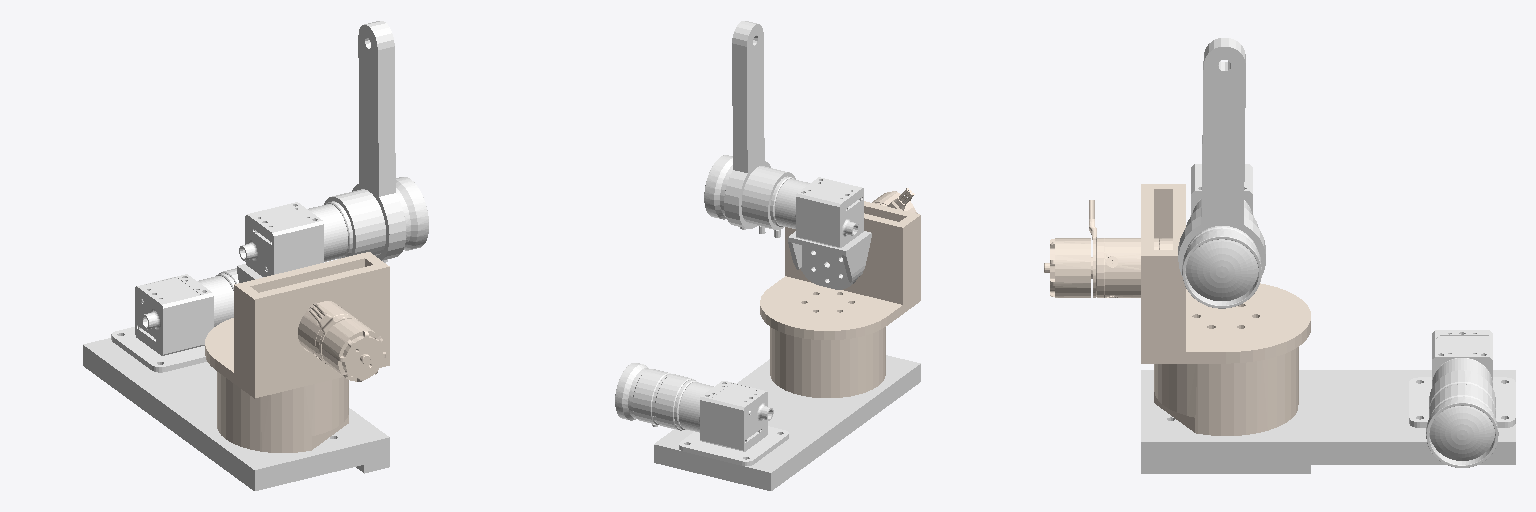
The robot description file, URDF, robot "radar_solidworks_export":
<?xml version="1.0" encoding="utf-8"?>
<!--
  SolidWorks 导出原始几何参考。网格使用相对路径 ../meshes/（与本文件同级的 meshes 目录）。
  Gazebo / ROS2 仿真请使用 radar_gimbal_gazebo 包内 urdf/radar_gimbal.urdf.xacro（launch 会将 mesh 转为 file://）。
-->
<!-- This URDF was automatically created by SolidWorks to URDF Exporter! Originally created by Stephen Brawner (brawner@gmail.com) 
     Commit Version: 1.6.0-4-g7f85cfe  Build Version: 1.6.7995.38578
     For more information, please see http://wiki.ros.org/sw_urdf_exporter -->
<robot
  name="radar_solidworks_export">
  <link
    name="base_link">
    <inertial>
      <origin
        xyz="0.00106427671530626 -0.00322922392982693 -0.00671468562919772"
        rpy="0 0 0" />
      <mass
        value="0.229931745877165" />
      <inertia
        ixx="0.000590270936390006"
        ixy="1.07371769131118E-05"
        ixz="1.88719478321106E-06"
        iyy="0.000126898863823102"
        iyz="-6.79511189117362E-06"
        izz="0.000709505066157741" />
    </inertial>
    <visual>
      <origin
        xyz="0 0 0"
        rpy="0 0 0" />
      <geometry>
        <mesh
          filename="../meshes/base_link.STL" />
      </geometry>
      <material
        name="">
        <color
          rgba="0.968627450980392 0.968627450980392 0.968627450980392 1" />
      </material>
    </visual>
    <collision>
      <origin
        xyz="0 0 0"
        rpy="0 0 0" />
      <geometry>
        <mesh
          filename="../meshes/base_link.STL" />
      </geometry>
    </collision>
  </link>
  <link
    name="fix_camera_one_Link">
    <inertial>
      <origin
        xyz="-0.0292931154612421 -2.92415076856394E-05 -0.00534378407408276"
        rpy="0 0 0" />
      <mass
        value="0.0432395885563312" />
      <inertia
        ixx="6.84812974536652E-06"
        ixy="-2.42904999940939E-08"
        ixz="1.92184336275892E-08"
        iyy="8.06433263966491E-06"
        iyz="1.10833354996719E-09"
        izz="1.1016716291214E-05" />
    </inertial>
    <visual>
      <origin
        xyz="0 0 0"
        rpy="0 0 0" />
      <geometry>
        <mesh
          filename="../meshes/fix_camera_one_Link.STL" />
      </geometry>
      <material
        name="">
        <color
          rgba="1 1 1 1" />
      </material>
    </visual>
    <collision>
      <origin
        xyz="0 0 0"
        rpy="0 0 0" />
      <geometry>
        <mesh
          filename="../meshes/fix_camera_one_Link.STL" />
      </geometry>
    </collision>
  </link>
  <joint
    name="fix_camera_one"
    type="fixed">
    <origin
      xyz="0.030847222837753 0.0638829730233286 0.0175"
      rpy="0 0 0" />
    <parent
      link="base_link" />
    <child
      link="fix_camera_one_Link" />
    <axis
      xyz="0 0 0" />
  </joint>
  <link
    name="camera_one_optical_Link">
    <inertial>
      <origin
        xyz="-4.92273352582437E-06 2.90905862816056E-05 0.0167250240812808"
        rpy="0 0 0" />
      <mass
        value="0.0332391621102825" />
      <inertia
        ixx="7.23769741063542E-06"
        ixy="3.06745951726435E-09"
        ixz="1.31194570343541E-10"
        iyy="7.22008946786781E-06"
        iyz="-7.75285076070035E-10"
        izz="4.04870875276839E-06" />
    </inertial>
    <visual>
      <origin
        xyz="0 0 0"
        rpy="0 0 0" />
      <geometry>
        <mesh
          filename="../meshes/camera_one_optical_Link.STL" />
      </geometry>
      <material
        name="">
        <color
          rgba="1 1 1 1" />
      </material>
    </visual>
    <collision>
      <origin
        xyz="0 0 0"
        rpy="0 0 0" />
      <geometry>
        <mesh
          filename="../meshes/camera_one_optical_Link.STL" />
      </geometry>
    </collision>
  </link>
  <joint
    name="camera_one_optical"
    type="continuous">
    <origin
      xyz="0.0335268385635114 0 0"
      rpy="-1.5707963267949 0 1.5707963267949" />
    <parent
      link="fix_camera_one_Link" />
    <child
      link="camera_one_optical_Link" />
    <axis
      xyz="0 0 1" />
  </joint>
  <link
    name="yaw_joint_Link">
    <inertial>
      <origin
        xyz="-0.000116508010712883 -0.00539983150200984 -0.0113972516576247"
        rpy="0 0 0" />
      <mass
        value="0.683416690081258" />
      <inertia
        ixx="0.000322059590126863"
        ixy="-1.77290607885917E-06"
        ixz="-1.18416365927975E-06"
        iyy="0.000338934850311297"
        iyz="1.9429950603338E-05"
        izz="0.000442690001311827" />
    </inertial>
    <visual>
      <origin
        xyz="0 0 0"
        rpy="0 0 0" />
      <geometry>
        <mesh
          filename="../meshes/yaw_joint_Link.STL" />
      </geometry>
      <material
        name="">
        <color
          rgba="1 0.949019607843137 0.898039215686275 1" />
      </material>
    </visual>
    <collision>
      <origin
        xyz="0 0 0"
        rpy="0 0 0" />
      <geometry>
        <mesh
          filename="../meshes/yaw_joint_Link.STL" />
      </geometry>
    </collision>
  </link>
  <joint
    name="yaw_joint"
    type="revolute">
    <origin
      xyz="0 -0.047117 0.0405"
      rpy="0 0 0" />
    <parent
      link="base_link" />
    <child
      link="yaw_joint_Link" />
    <axis
      xyz="0 0 1" />
    <limit
      lower="0"
      upper="0"
      effort="0"
      velocity="0" />
  </joint>
  <link
    name="pich_joint_Link">
    <inertial>
      <origin
        xyz="0.000138467596281736 0.00144707841660707 0.00776665263018918"
        rpy="0 0 0" />
      <mass
        value="0.0121756572772907" />
      <inertia
        ixx="1.50898942787321E-06"
        ixy="-9.08706173162835E-10"
        ixz="-5.55374973288002E-09"
        iyy="3.11525960305741E-06"
        iyz="3.88141718579356E-08"
        izz="2.57913481745752E-06" />
    </inertial>
    <visual>
      <origin
        xyz="0 0 0"
        rpy="0 0 0" />
      <geometry>
        <mesh
          filename="../meshes/pich_joint_Link.STL" />
      </geometry>
      <material
        name="">
        <color
          rgba="0.968627450980392 0.968627450980392 0.968627450980392 1" />
      </material>
    </visual>
    <collision>
      <origin
        xyz="0 0 0"
        rpy="0 0 0" />
      <geometry>
        <mesh
          filename="../meshes/pich_joint_Link.STL" />
      </geometry>
    </collision>
  </link>
  <joint
    name="pich_joint"
    type="revolute">
    <origin
      xyz="0 -0.003 0.031"
      rpy="0 0 0" />
    <parent
      link="yaw_joint_Link" />
    <child
      link="pich_joint_Link" />
    <axis
      xyz="0 -1 0" />
    <limit
      lower="0"
      upper="0"
      effort="0"
      velocity="0" />
  </joint>
  <link
    name="movable_camera_tow_Link">
    <inertial>
      <origin
        xyz="-0.0284189606680574 4.39067606750332E-05 -5.40306986665517E-07"
        rpy="0 0 0" />
      <mass
        value="0.0287971770555077" />
      <inertia
        ixx="3.91534975477771E-06"
        ixy="2.42904999940923E-08"
        ixz="-1.92184336275884E-08"
        iyy="5.14110941396445E-06"
        iyz="1.10833354996656E-09"
        izz="5.18237669217594E-06" />
    </inertial>
    <visual>
      <origin
        xyz="0 0 0"
        rpy="0 0 0" />
      <geometry>
        <mesh
          filename="../meshes/movable_camera_tow_Link.STL" />
      </geometry>
      <material
        name="">
        <color
          rgba="1 1 1 1" />
      </material>
    </visual>
    <collision>
      <origin
        xyz="0 0 0"
        rpy="0 0 0" />
      <geometry>
        <mesh
          filename="../meshes/movable_camera_tow_Link.STL" />
      </geometry>
    </collision>
  </link>
  <joint
    name="movable_camera_tow"
    type="fixed">
    <origin
      xyz="0.03085 0.001 0.0323"
      rpy="0 0 0" />
    <parent
      link="pich_joint_Link" />
    <child
      link="movable_camera_tow_Link" />
    <axis
      xyz="0 0 0" />
  </joint>
  <link
    name="camera_tow_optical_Link">
    <inertial>
      <origin
        xyz="0.000202809333383402 -0.016436035218942 0.0145886833049471"
        rpy="0 0 0" />
      <mass
        value="0.0672005971243301" />
      <inertia
        ixx="4.10510128858893E-05"
        ixy="3.4727960827953E-07"
        ixz="1.08829131787497E-10"
        iyy="1.28432056341037E-05"
        iyz="-1.3644917937298E-08"
        izz="3.78896902119391E-05" />
    </inertial>
    <visual>
      <origin
        xyz="0 0 0"
        rpy="0 0 0" />
      <geometry>
        <mesh
          filename="../meshes/camera_tow_optical_Link.STL" />
      </geometry>
      <material
        name="">
        <color
          rgba="1 1 1 1" />
      </material>
    </visual>
    <collision>
      <origin
        xyz="0 0 0"
        rpy="0 0 0" />
      <geometry>
        <mesh
          filename="../meshes/camera_tow_optical_Link.STL" />
      </geometry>
    </collision>
  </link>
  <joint
    name="camera_tow_optical"
    type="continuous">
    <origin
      xyz="0.0354242123304058 0 0"
      rpy="-1.5707963267949 0 1.5707963267949" />
    <parent
      link="movable_camera_tow_Link" />
    <child
      link="camera_tow_optical_Link" />
    <axis
      xyz="0 0 1" />
  </joint>
</robot>

--- Facts derived from the render (not from the file) ---
3 views of the same robot in one strip: view 1: azimuth 30°, elevation 25°; view 2: azimuth 150°, elevation 25°; view 3: azimuth 270°, elevation 25° (orthographic).
Model radar_solidworks_export with 7 links and 6 joints (2 revolute, 2 continuous, 2 fixed), rooted at base_link, posed all joints at 0.
Visible links, largest first — view 1: yaw_joint_Link, base_link, camera_tow_optical_Link, fix_camera_one_Link, movable_camera_tow_Link; view 2: yaw_joint_Link, base_link, camera_tow_optical_Link, fix_camera_one_Link, movable_camera_tow_Link, camera_one_optical_Link, pich_joint_Link; view 3: yaw_joint_Link, base_link, camera_tow_optical_Link, camera_one_optical_Link, fix_camera_one_Link, movable_camera_tow_Link.
Boxes of the visible links, bbox=[...] form: yaw_joint_Link: bbox=[205, 252, 389, 452]; base_link: bbox=[83, 338, 389, 490]; camera_tow_optical_Link: bbox=[324, 21, 428, 262]; fix_camera_one_Link: bbox=[111, 274, 233, 372]; movable_camera_tow_Link: bbox=[239, 202, 347, 276]; yaw_joint_Link: bbox=[760, 188, 920, 397]; base_link: bbox=[654, 355, 920, 490]; camera_tow_optical_Link: bbox=[704, 21, 795, 237]; fix_camera_one_Link: bbox=[678, 381, 788, 465]; movable_camera_tow_Link: bbox=[775, 177, 863, 247]; camera_one_optical_Link: bbox=[615, 363, 698, 430]; pich_joint_Link: bbox=[788, 231, 871, 289]; yaw_joint_Link: bbox=[1044, 184, 1310, 435]; base_link: bbox=[1141, 370, 1515, 473]; camera_tow_optical_Link: bbox=[1178, 38, 1265, 308]; camera_one_optical_Link: bbox=[1426, 370, 1498, 467]; fix_camera_one_Link: bbox=[1409, 330, 1515, 427]; movable_camera_tow_Link: bbox=[1191, 164, 1252, 214].
Size in the robot's own frame: 0.1146 by 0.2216 by 0.2314 metres.
7 mesh visuals loaded from 7 distinct referenced files (7 binary STL).
